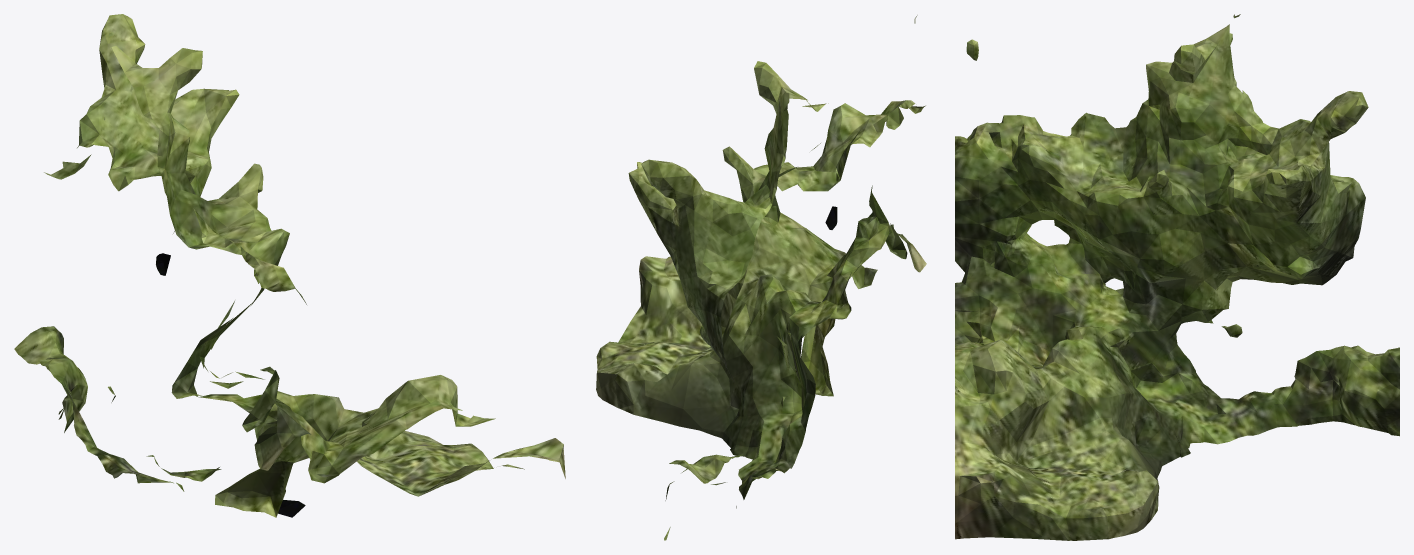
3 renders of one model, left to right at view 1: azimuth 30°, elevation 25°; view 2: azimuth 150°, elevation 25°; view 3: azimuth 270°, elevation 25°, orthographic. The views are drawn at different scales.
Bounding box in the file's own units: 2.08 × 2.95 × 2.95.
Materials: 3 (3 with a texture image).
